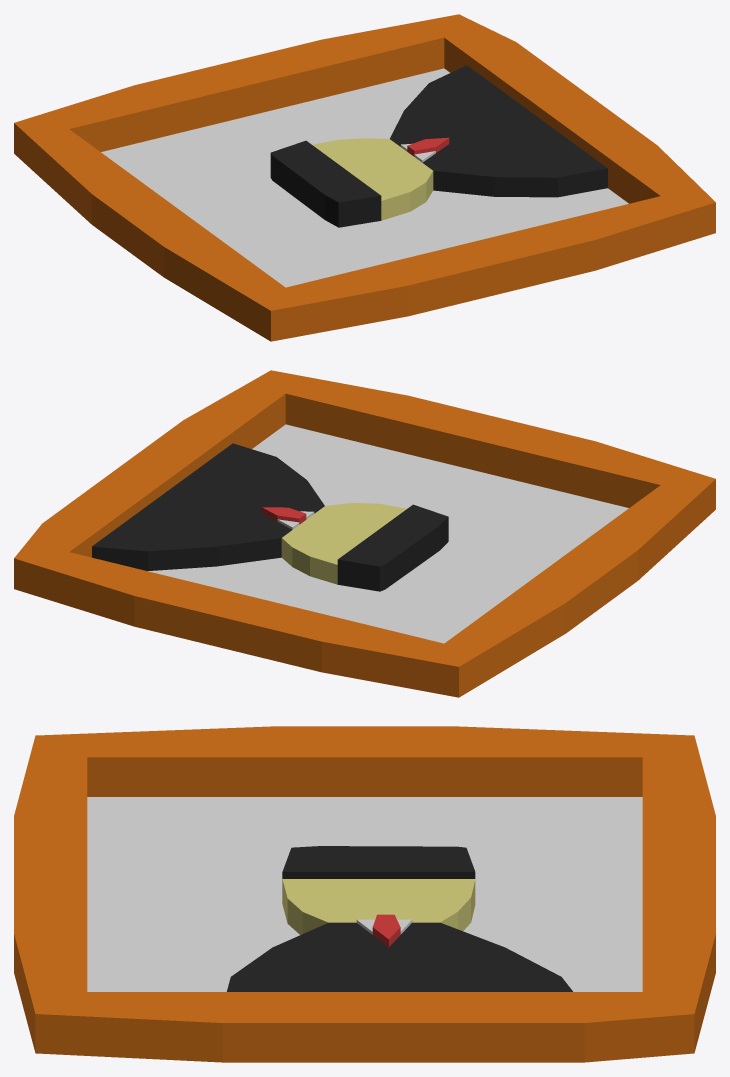
Rendered from Poto.fbx.
The picture shows the model from 3 angles, top to bottom: view 1: azimuth 30°, elevation 25°; view 2: azimuth 150°, elevation 25°; view 3: azimuth 270°, elevation 25°; orthographic projection. The views are drawn at different scales.
Visible parts, largest first — view 1: Plane; view 2: Plane; view 3: Plane.
Part boxes in pixels (x1,y1,x2,y2): Plane: (14,14,715,341); Plane: (14,370,715,697); Plane: (14,726,715,1062).
Size of the model in its own units: 499 by 30.93 by 499.
